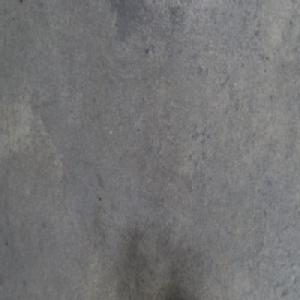AdjustableWrench: (169, 290, 200, 299)
